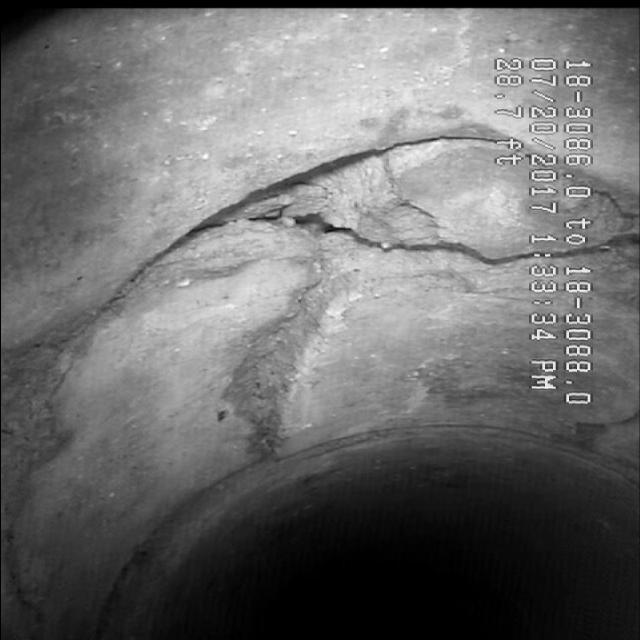Fracture: (100, 115, 484, 364)
